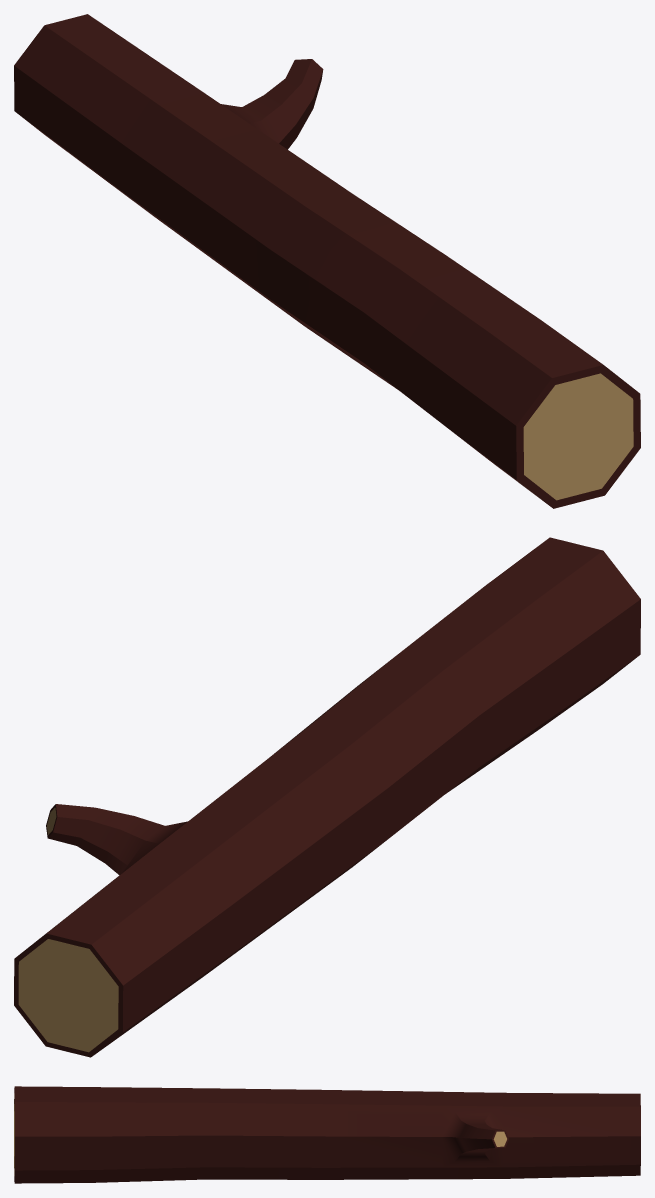
The model's file is SM_WoodLog_01.fbx.
3 renders of one model, top to bottom at view 1: azimuth 30°, elevation 25°; view 2: azimuth 150°, elevation 25°; view 3: azimuth 270°, elevation 25°, orthographic. The views are drawn at different scales.
Parts seen in each view (by area): view 1: Wood Log v1; view 2: Wood Log v1; view 3: Wood Log v1.
Part boxes in pixels (left/top/right/bottom): Wood Log v1: left=14, top=14, right=640, bottom=508; Wood Log v1: left=14, top=537, right=640, bottom=1057; Wood Log v1: left=14, top=1086, right=640, bottom=1183.
Size of the model in its own units: 13.84 by 9.04 by 62.83.
